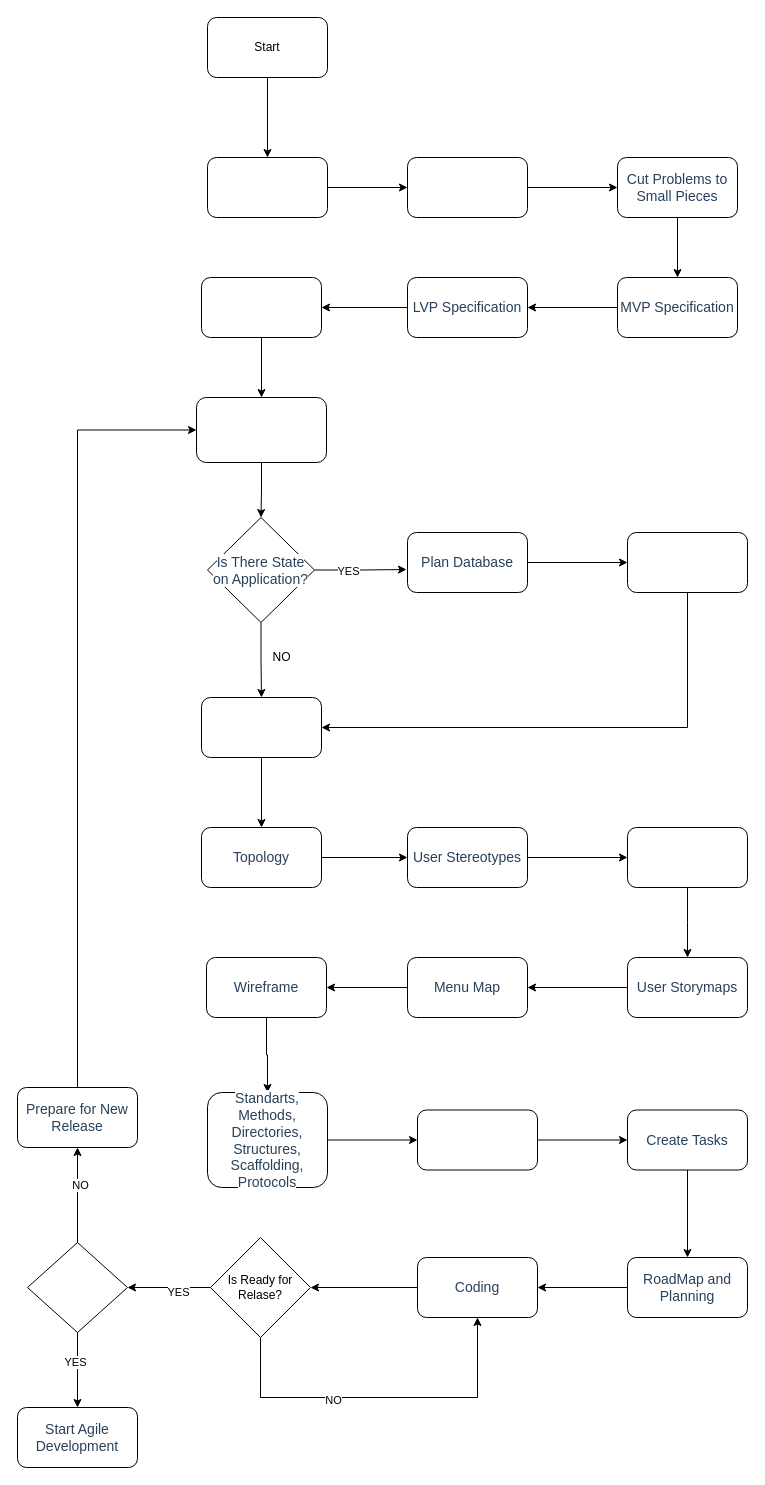
The diagram is 765 pixels wide and 1485 high, and some of its shapes have lost their labels. Here are the shapes that lost their labels. From the top down, the centre of each, then its label:
At (x=267, y=187): "Which Problem Will You Solve".
At (x=467, y=187): "Specify Possible Problems".
At (x=261, y=307): "Tech Stack".
At (x=261, y=429): "Plan Objects".
At (x=687, y=562): "Create Database Diagrams".
At (x=261, y=727): "API Documentation".
At (x=687, y=857): "User Scenerios".
At (x=477, y=1139): "Alghorithms and FlowCharts".
At (x=77, y=1287): "Is MVP+LVP Features Done?".
